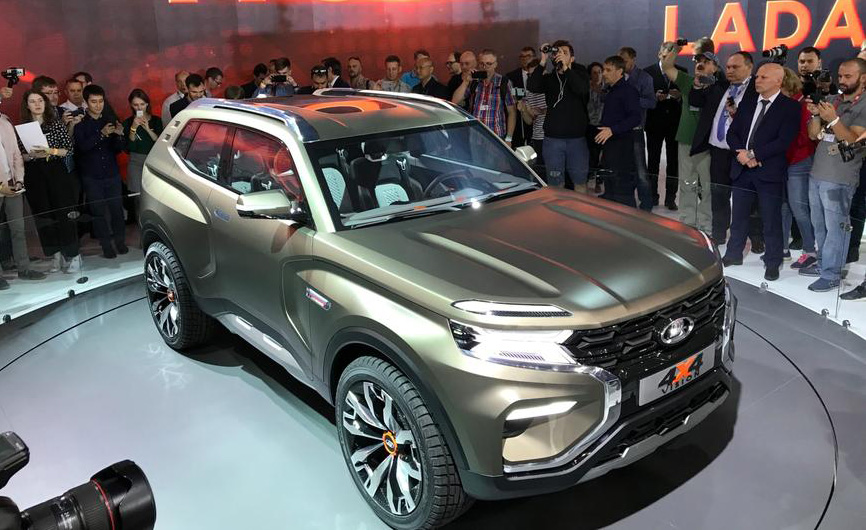Camioneta: (118, 87, 779, 515)
